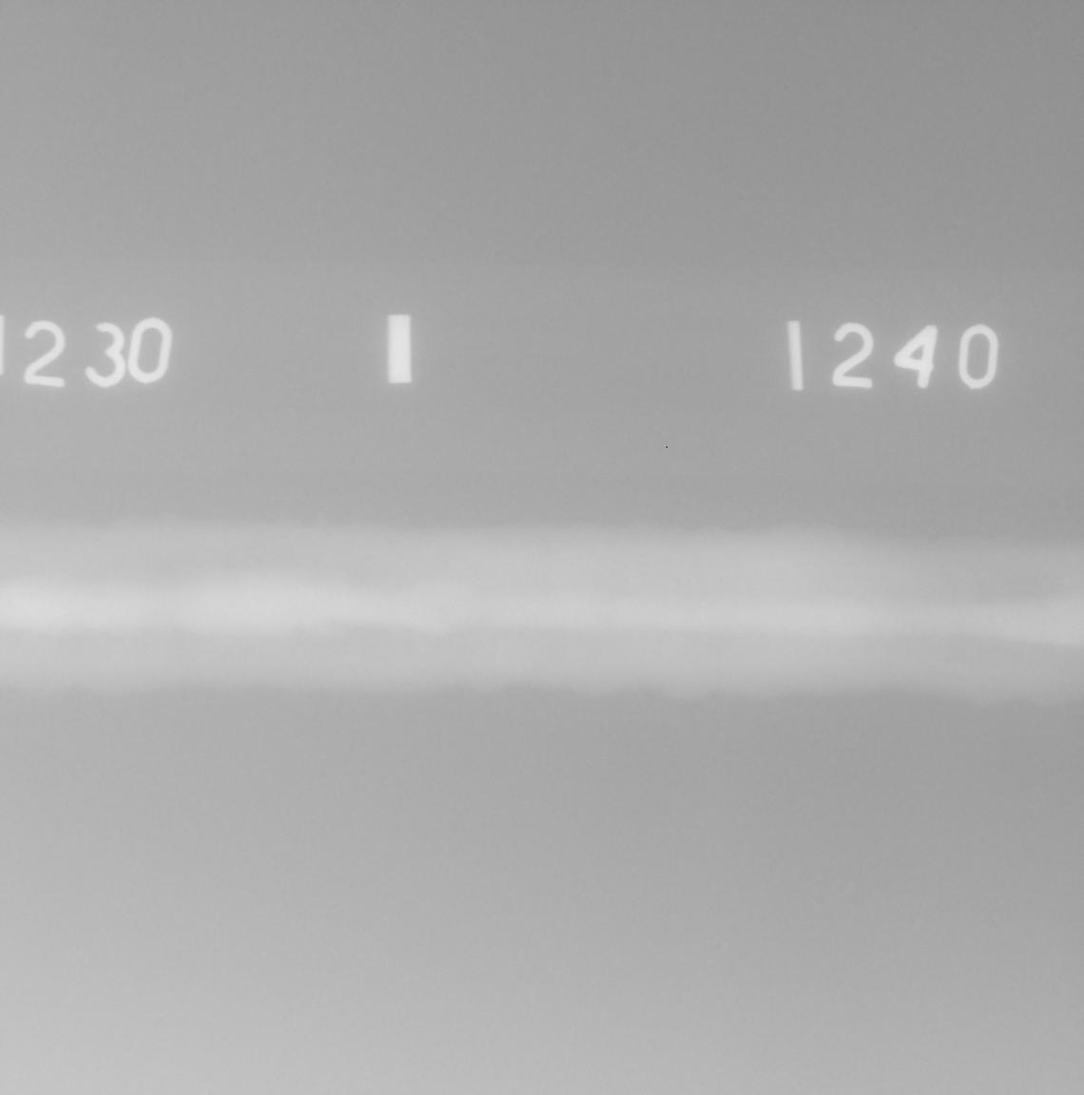Inclusion: (436, 605, 457, 614)
